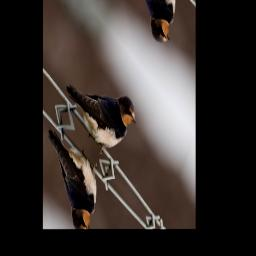Swallow: (59, 41, 141, 173)
